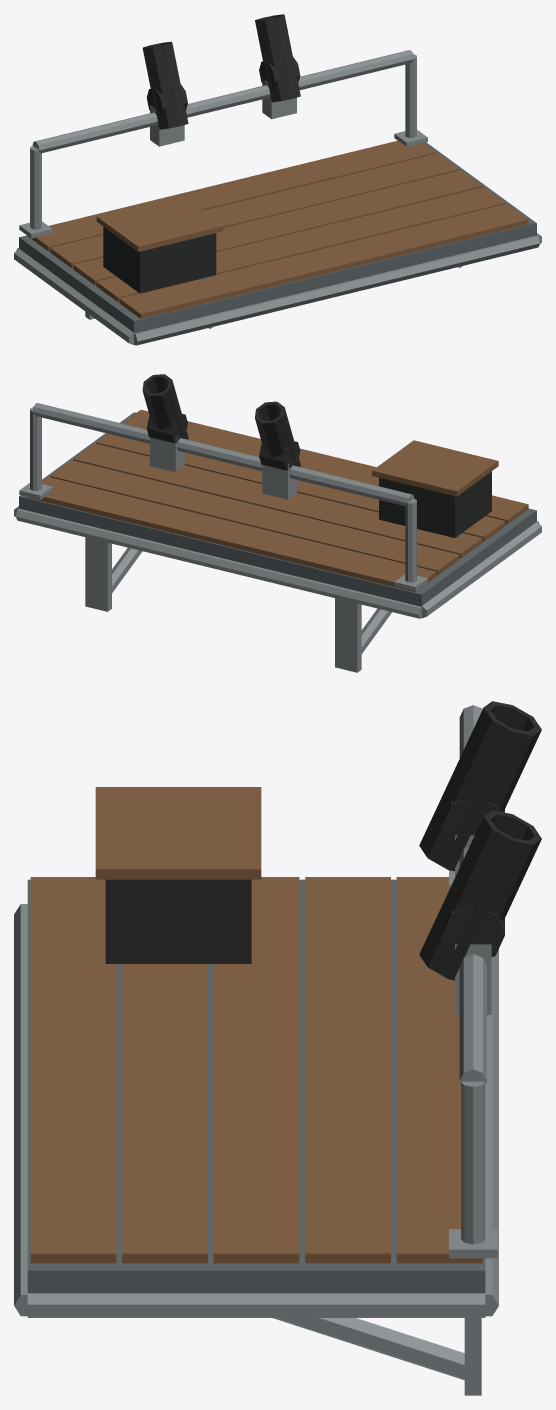
Rendered from boatDeck-lv2.glb.
The picture shows the model from 3 angles, top to bottom: view 1: azimuth 30°, elevation 25°; view 2: azimuth 150°, elevation 25°; view 3: azimuth 270°, elevation 25°; orthographic projection. The views are drawn at different scales.
Parts seen in each view (by area): view 1: wide-working-deck-plank-5, boat-mounted-working-platform, wide-working-deck-plank-4, wide-working-deck-plank-1, wide-working-deck-plank-3, wide-working-deck-plank-2, deck-perimeter-frame, open-octagonal-rod-sleeve (×2), compact-tackle-storage, horizontal-rod-mounting-rail, bait-preparation-board, short-holder-rail-stanchion (×2) (+3 smaller); view 2: wide-working-deck-plank-1, wide-working-deck-plank-2, boat-mounted-working-platform, wide-working-deck-plank-3, deck-perimeter-frame, horizontal-rod-mounting-rail, bait-preparation-board, compact-tackle-storage, wide-working-deck-plank-5, vertical-transom-mounting-plate (×2), wide-working-deck-plank-4, open-octagonal-rod-sleeve (×2) (+5 smaller); view 3: wide-working-deck-plank-2, wide-working-deck-plank-5, wide-working-deck-plank-3, wide-working-deck-plank-4, boat-mounted-working-platform, wide-working-deck-plank-1, open-octagonal-rod-sleeve (×2), bait-preparation-board, compact-tackle-storage, deck-end-frame, deck-perimeter-frame (×2), horizontal-rod-mounting-rail (+6 smaller).
Part boxes in pixels (x1,y1,x2,y2): wide-working-deck-plank-5: (119, 204, 528, 318); boat-mounted-working-platform: (19, 142, 536, 333); wide-working-deck-plank-4: (96, 187, 505, 301); wide-working-deck-plank-1: (28, 140, 436, 251); wide-working-deck-plank-3: (73, 170, 482, 285); wide-working-deck-plank-2: (50, 153, 459, 268); deck-perimeter-frame: (134, 235, 540, 345); open-octagonal-rod-sleeve (×2): (142, 14, 300, 129); compact-tackle-storage: (103, 227, 216, 293); horizontal-rod-mounting-rail: (32, 50, 414, 153); bait-preparation-board: (96, 195, 222, 251); short-holder-rail-stanchion (×2): (30, 54, 416, 229); wide-working-deck-plank-1: (27, 477, 436, 591); wide-working-deck-plank-2: (50, 460, 459, 575); boat-mounted-working-platform: (19, 412, 536, 606); wide-working-deck-plank-3: (73, 443, 482, 558); deck-perimeter-frame: (15, 508, 421, 618); horizontal-rod-mounting-rail: (32, 403, 414, 506); bait-preparation-board: (372, 440, 498, 496); compact-tackle-storage: (379, 471, 491, 537); wide-working-deck-plank-5: (122, 409, 528, 524); vertical-transom-mounting-plate (×2): (85, 537, 361, 672); wide-working-deck-plank-4: (96, 433, 505, 541); open-octagonal-rod-sleeve (×2): (142, 374, 300, 468); wide-working-deck-plank-2: (305, 877, 390, 1263); wide-working-deck-plank-5: (30, 877, 116, 1263); wide-working-deck-plank-3: (213, 877, 299, 1263); wide-working-deck-plank-4: (122, 964, 207, 1263); boat-mounted-working-platform: (27, 879, 485, 1293); wide-working-deck-plank-1: (396, 877, 482, 1263); open-octagonal-rod-sleeve (×2): (419, 701, 541, 980); bait-preparation-board: (95, 787, 261, 879); compact-tackle-storage: (105, 879, 251, 963); deck-end-frame: (27, 1293, 485, 1317); deck-perimeter-frame (×2): (14, 904, 498, 1316); horizontal-rod-mounting-rail: (459, 705, 486, 1084).
Size of the model in its own units: 2 by 1.17 by 1.11.
